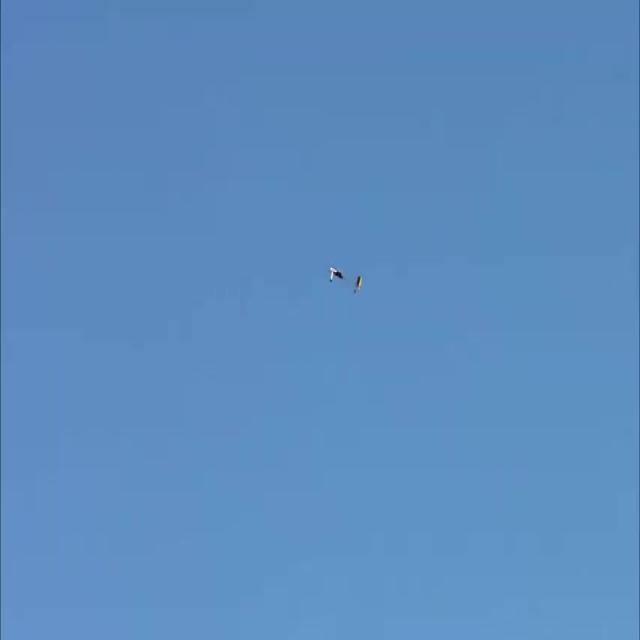iha: (329, 265, 363, 295)
